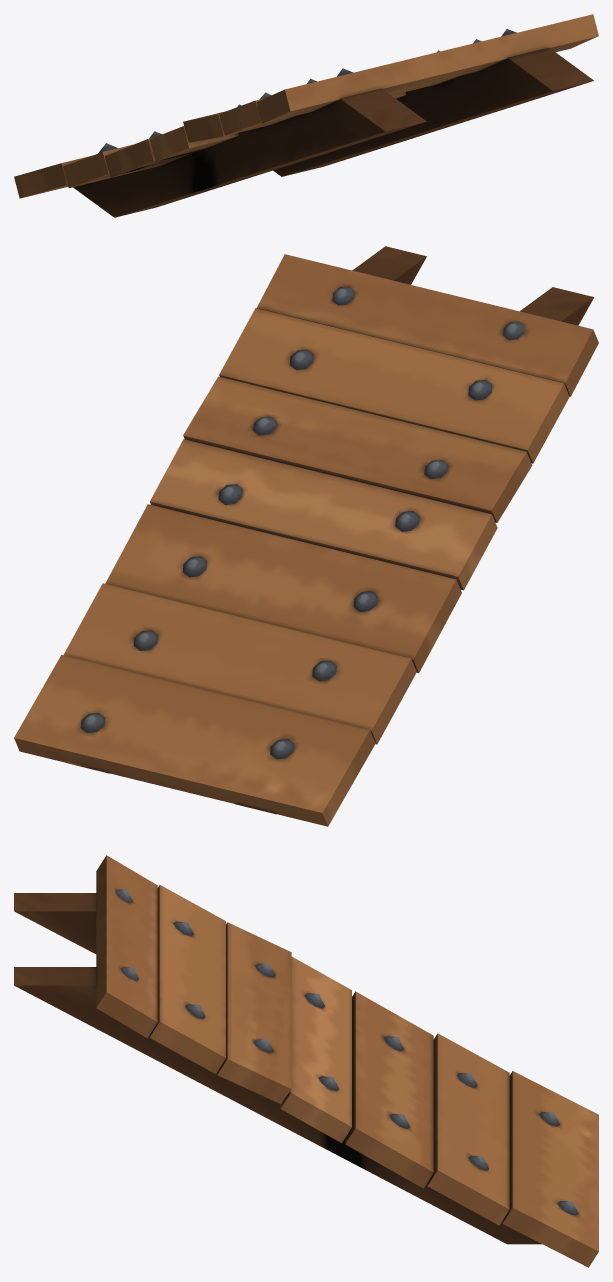
The model's file is Chemin_Pont_MonteeCentre.FBX.
3 views of the same model, one above another, from view 1: azimuth 30°, elevation 25°; view 2: azimuth 150°, elevation 25°; view 3: azimuth 270°, elevation 25° (orthographic). The views are drawn at different scales.
Visible parts, largest first — view 1: Chemin_Montee002; view 2: Chemin_Montee002; view 3: Chemin_Montee002.
Boxes of the visible parts, <box> form: Chemin_Montee002: <box>14,14,598,217</box>; Chemin_Montee002: <box>14,246,598,826</box>; Chemin_Montee002: <box>14,855,598,1267</box>.
Size of the model in its own units: 3.94 by 3.7 by 7.11.
